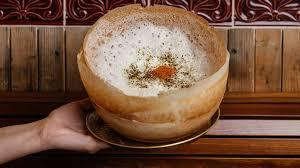Hoppers: (79, 4, 229, 140)
